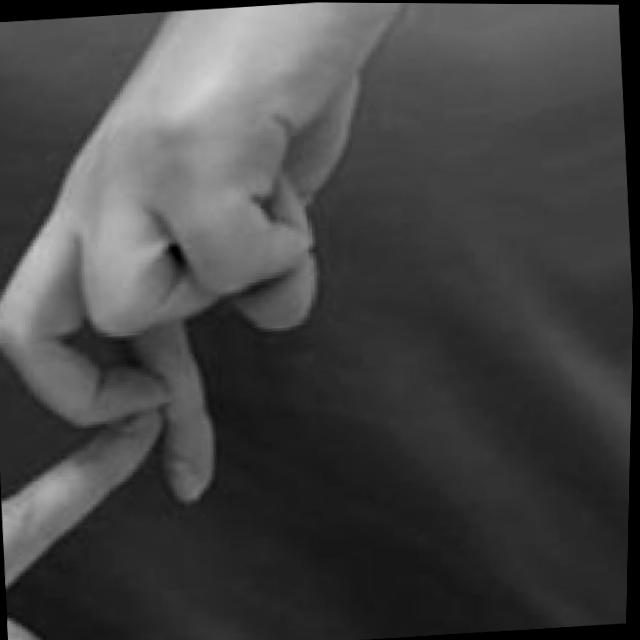R: (0, 0, 451, 640)
